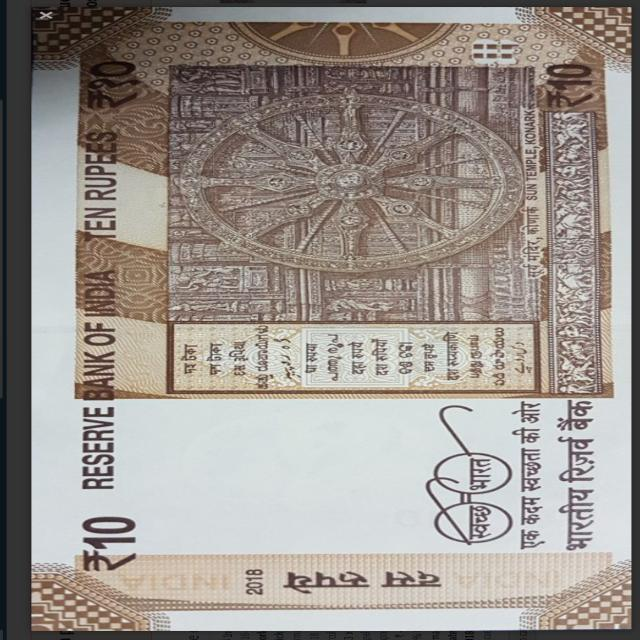10IndianRupees: (27, 7, 621, 630)
